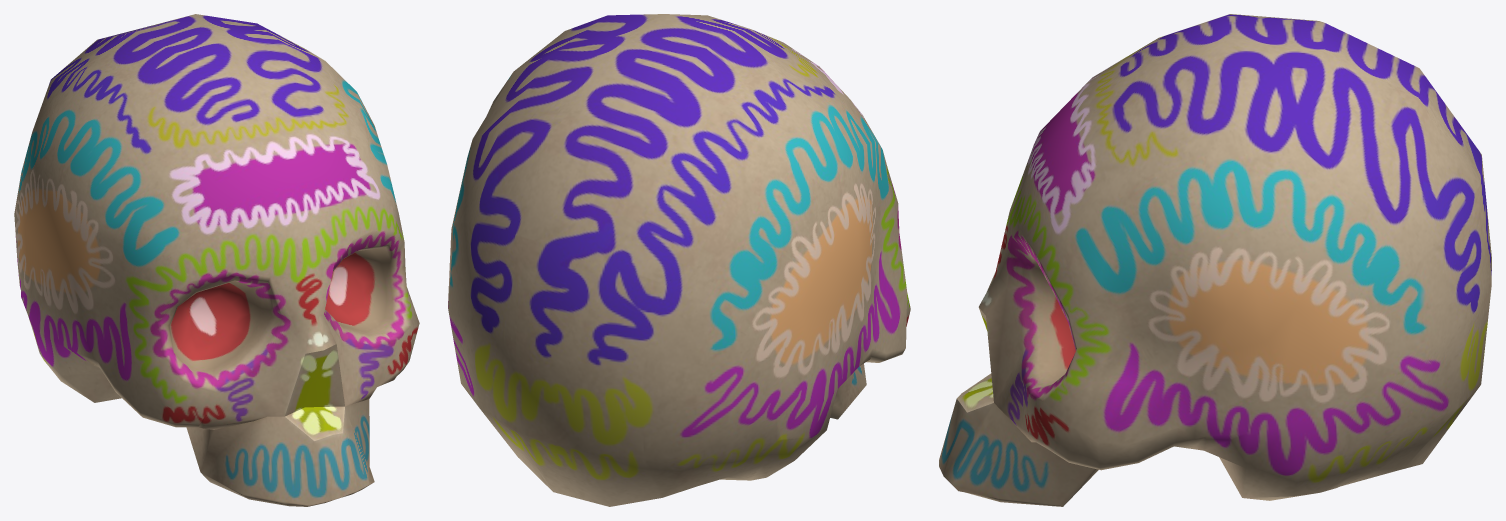
File: calaverita.obj
The picture shows the model from 3 angles, left to right: view 1: azimuth 30°, elevation 25°; view 2: azimuth 150°, elevation 25°; view 3: azimuth 270°, elevation 25°; orthographic projection. The views are drawn at different scales.
Parts seen in each view (by area): view 1: defaultMaterial001; view 2: defaultMaterial001; view 3: defaultMaterial001.
Part boxes in pixels (<box>): defaultMaterial001: <box>14,14,419,506</box>; defaultMaterial001: <box>448,14,910,506</box>; defaultMaterial001: <box>939,14,1491,506</box>.
Size of the model in its own units: 10.53 by 12.21 by 13.85.
1 material, 1 textured.
